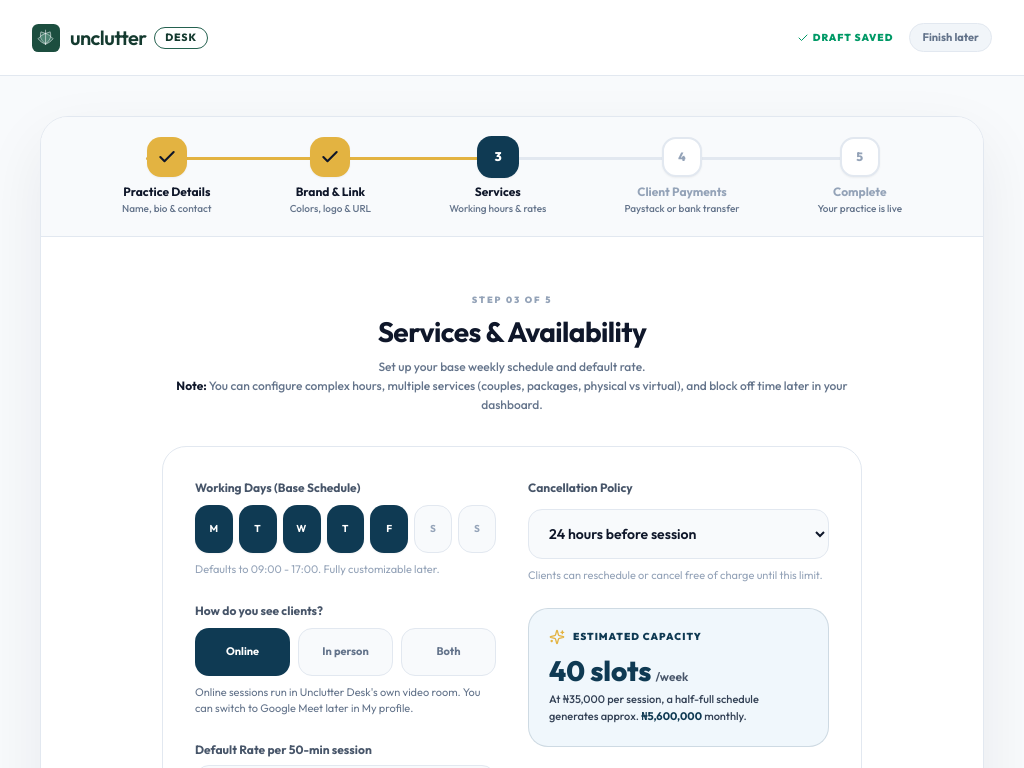
Test: setup: how do you see clients › a missing street address blocks Continue with the exact words
Step 1. Click the radio button labelled "Both" → [448, 652], box x1=401 y1=628 x2=496 y2=676
(page scrolled)
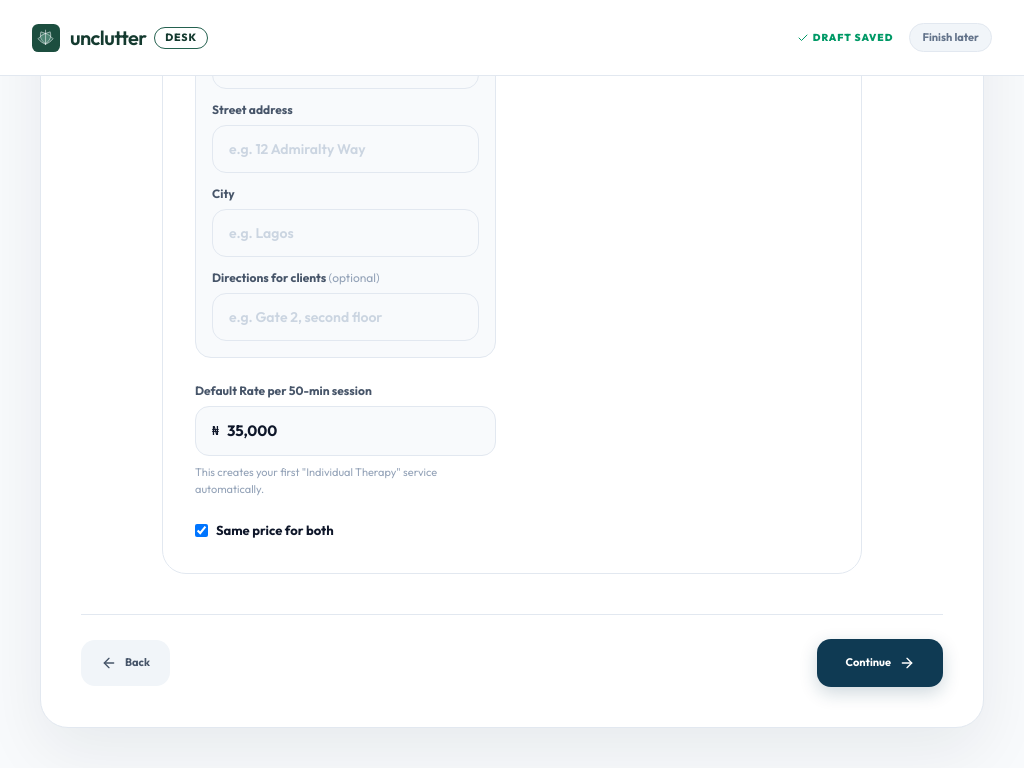
Step 2. Click the button "Continue" → [880, 663], box x1=818 y1=639 x2=943 y2=687
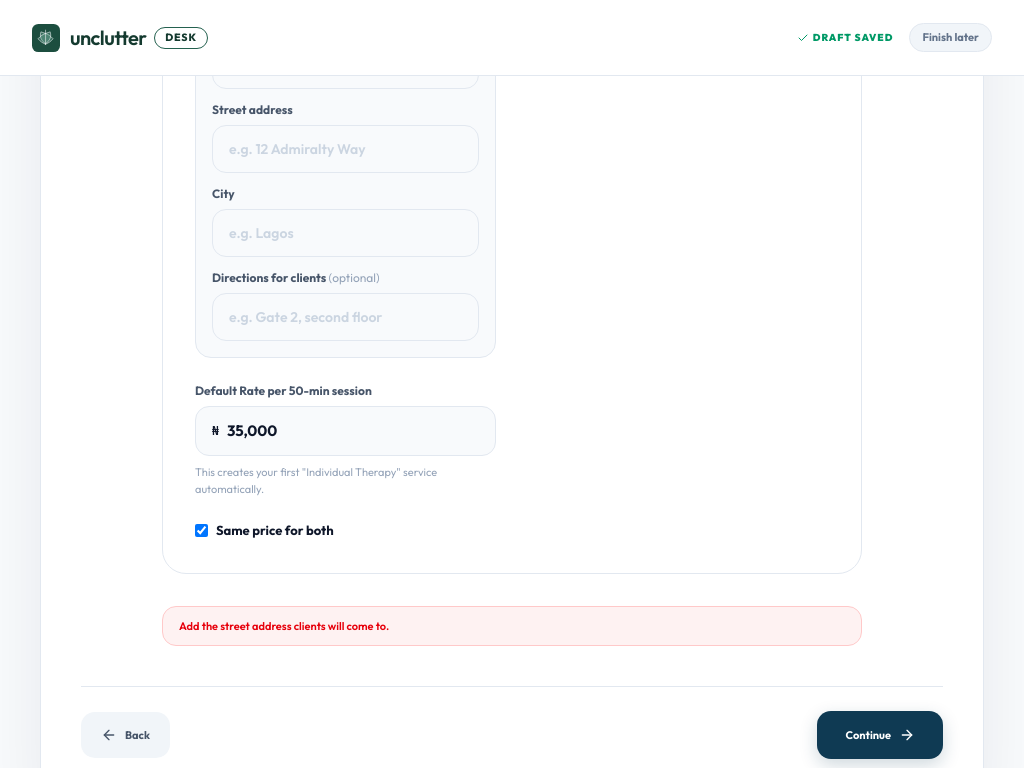
Check: the text "Add the street address clients will come to." is shown, box x1=162 y1=606 x2=862 y2=646
